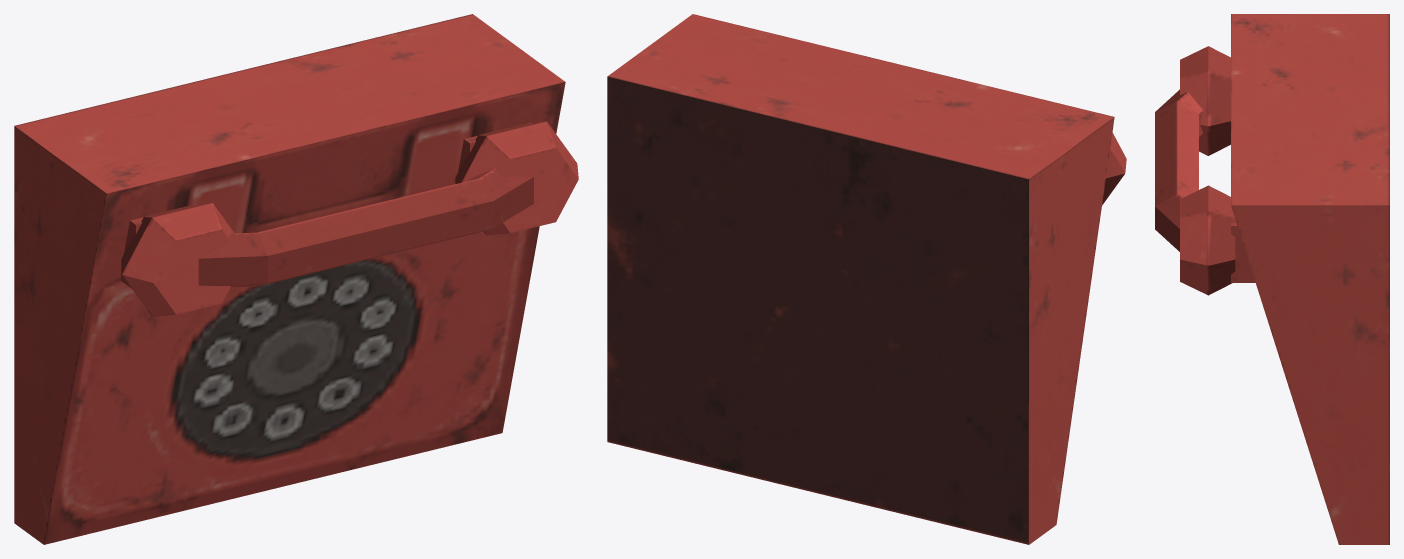
File: pz_phone_rotary_red.obj
3 renders of one model, left to right at view 1: azimuth 30°, elevation 25°; view 2: azimuth 150°, elevation 25°; view 3: azimuth 270°, elevation 25°, orthographic. The views are drawn at different scales.
Visible parts, largest first — view 1: base, nearly_straight_receiver_grip, receiver_cup_0, receiver_cup_1; view 2: base, receiver_cup_0; view 3: base, nearly_straight_receiver_grip, receiver_cup_1, receiver_cup_0, cradle_1.
Boxes of the visible parts, x1,y1,x2,y2 form: base: (14, 14, 565, 544); nearly_straight_receiver_grip: (198, 168, 533, 287); receiver_cup_0: (121, 203, 234, 316); receiver_cup_1: (455, 121, 578, 235); base: (607, 14, 1114, 544); receiver_cup_0: (1102, 132, 1126, 205); base: (1231, 14, 1389, 544); nearly_straight_receiver_grip: (1155, 89, 1203, 251); receiver_cup_1: (1180, 185, 1235, 295); receiver_cup_0: (1180, 46, 1230, 155); cradle_1: (1231, 219, 1255, 282).
Size of the model in its own units: 0.302 by 0.25 by 0.1567.
1 material, 1 textured.
